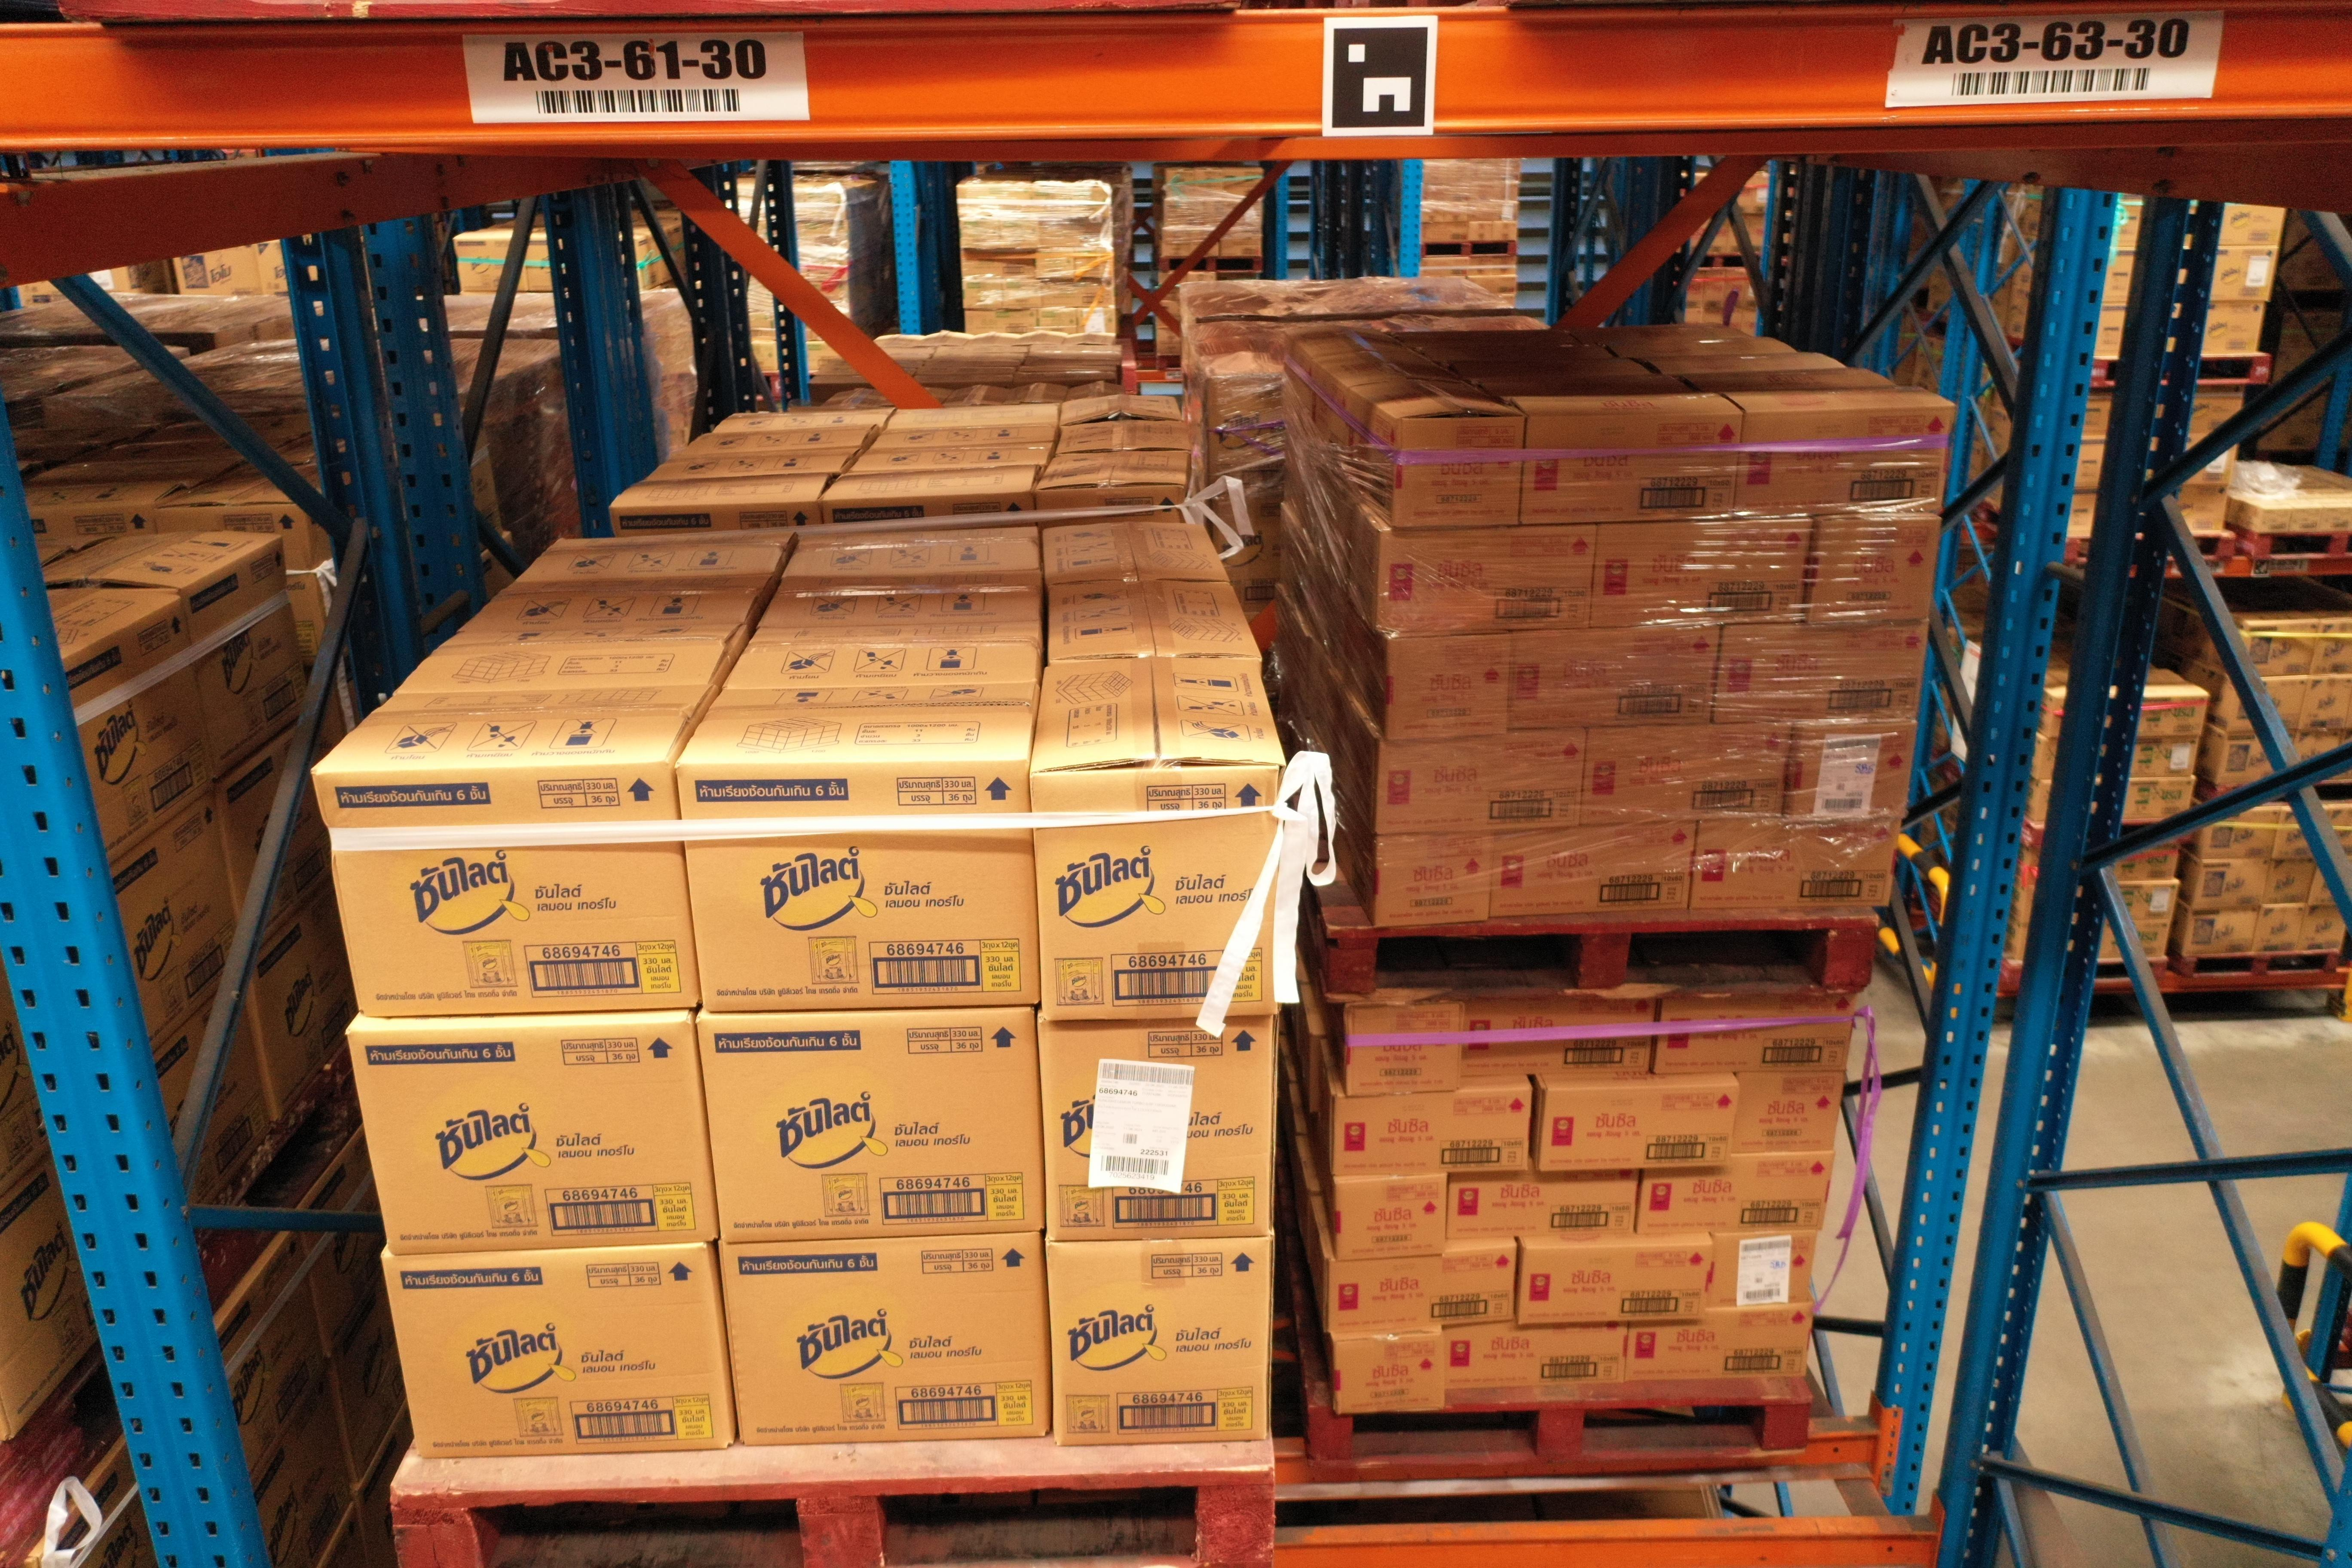-: (310, 770, 702, 1015), (675, 763, 1041, 1008), (341, 1025, 717, 1256), (696, 1013, 1045, 1244), (383, 1244, 733, 1456), (719, 1234, 1050, 1444), (1031, 765, 1290, 1025), (1041, 1015, 1274, 1244), (1052, 1237, 1277, 1445)
box: (1517, 411, 1745, 525), (1736, 404, 1953, 521), (1591, 520, 1809, 632), (1379, 528, 1596, 635), (1374, 731, 1587, 838), (1713, 623, 1930, 726), (1505, 626, 1717, 728), (1584, 724, 1792, 826), (1491, 822, 1699, 915), (1332, 1090, 1533, 1181), (1690, 822, 1900, 908), (1538, 1087, 1738, 1171), (1328, 1249, 1519, 1337), (1657, 996, 1857, 1076), (1634, 1155, 1834, 1235), (1391, 415, 1528, 530), (1463, 999, 1655, 1078), (1521, 1244, 1713, 1323), (1806, 516, 1942, 625), (1626, 1305, 1816, 1381), (1449, 1174, 1640, 1246), (1389, 633, 1510, 744), (1788, 723, 1916, 821), (1449, 1323, 1631, 1384), (1375, 831, 1493, 926), (1347, 1004, 1463, 1097), (1337, 1178, 1445, 1265), (1732, 1073, 1844, 1155), (1337, 1333, 1445, 1417), (1710, 1232, 1818, 1307)
